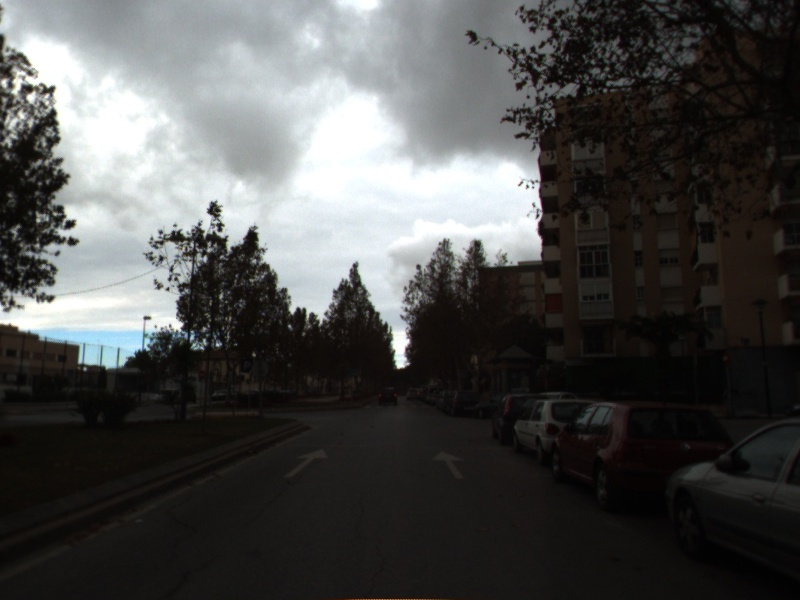STRAIGHT: (281, 446, 331, 480), (430, 448, 467, 481)
